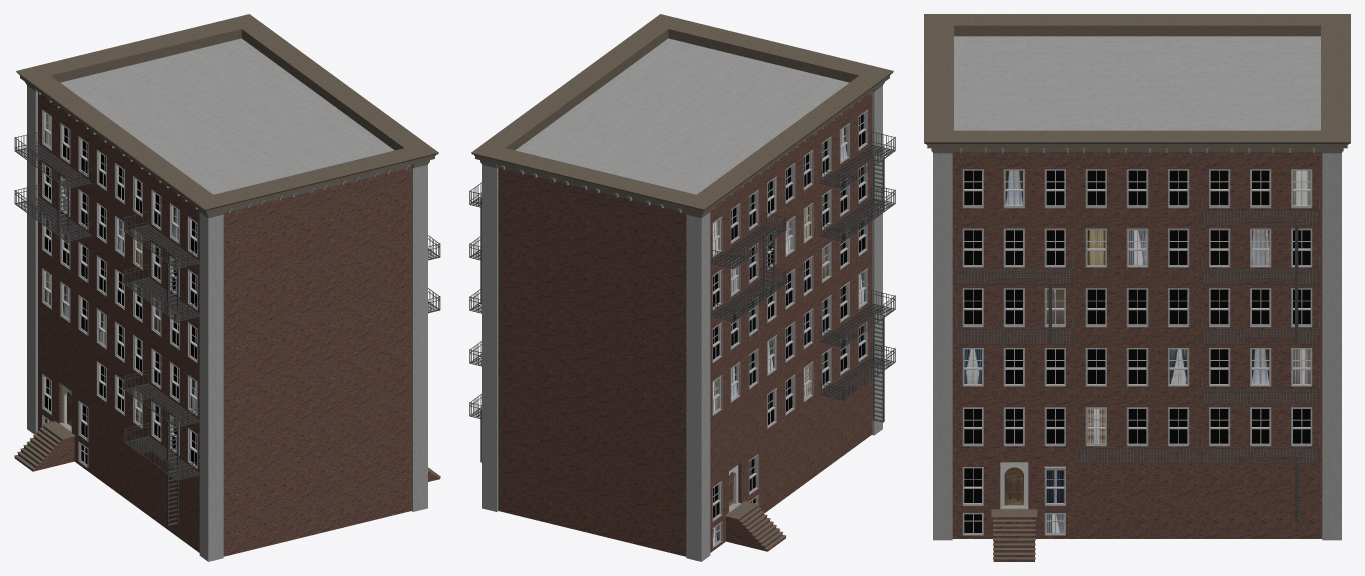
Rendered from Building03_B.fbx.
3 views of the same model, side by side, from view 1: azimuth 30°, elevation 25°; view 2: azimuth 150°, elevation 25°; view 3: azimuth 270°, elevation 25° (orthographic). The views are drawn at different scales.
Visible parts, largest first — view 1: Building03_B; view 2: Building03_B; view 3: Building03_B.
Boxes of the visible parts, bbox=[...] form: Building03_B: bbox=[14, 14, 440, 561]; Building03_B: bbox=[469, 14, 895, 561]; Building03_B: bbox=[924, 14, 1350, 561].
Bounding box in the file's own units: 2366 × 2700 × 2600.
